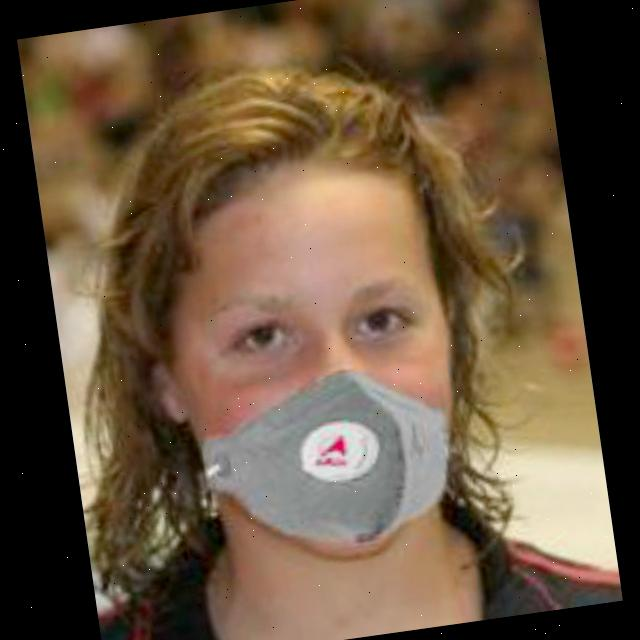suspicion: (113, 58, 481, 570)
